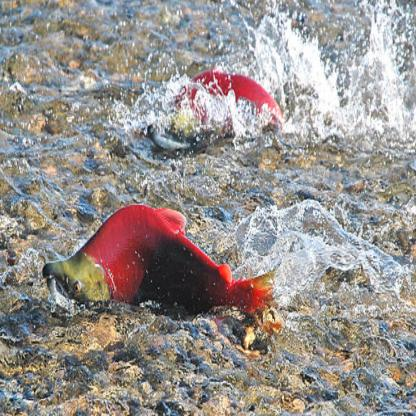sockeye: (42, 188, 282, 340), (148, 77, 294, 156)
